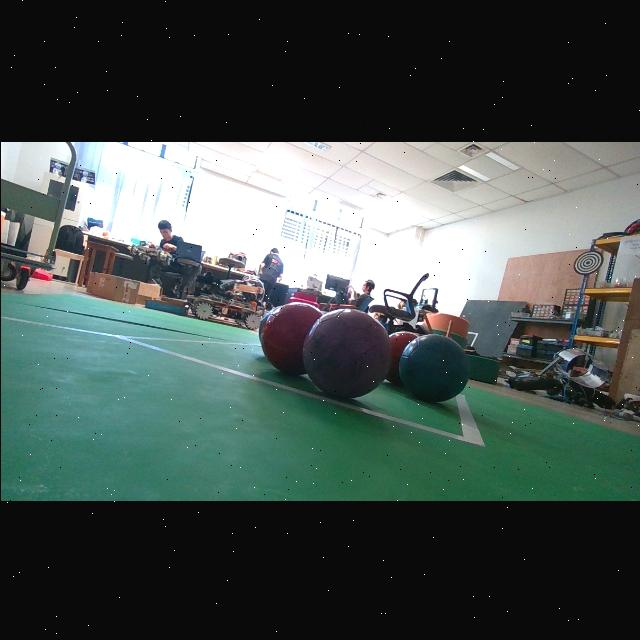B: (398, 333, 469, 401)
P: (301, 307, 390, 396)
R: (258, 300, 321, 373), (385, 329, 417, 383)
